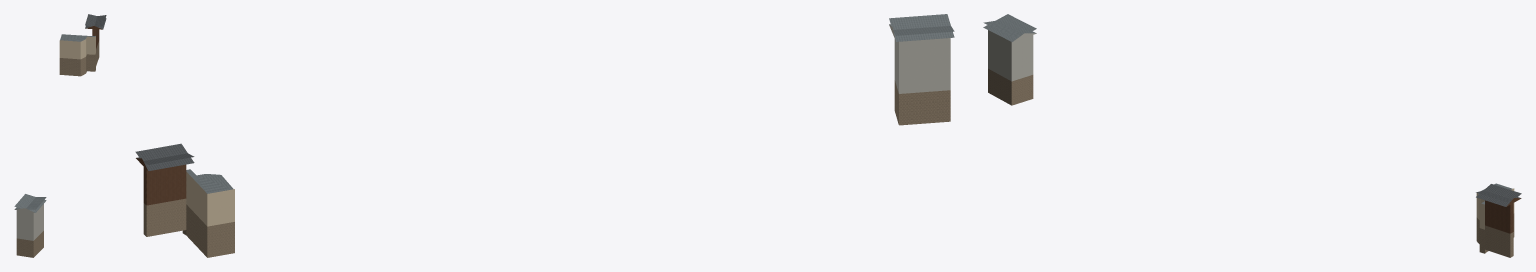
The model's file is bld_c15_38_414.gltf.
3 renders of one model, left to right at view 1: azimuth 30°, elevation 25°; view 2: azimuth 150°, elevation 25°; view 3: azimuth 270°, elevation 25°, orthographic. The views are drawn at different scales.
Parts seen in each view (by area): view 1: bld_c15_38_414; view 2: bld_c15_38_414; view 3: bld_c15_38_414.
Part boxes in pixels (box(x1,y1,x2,y2)): bld_c15_38_414: box(14, 14, 106, 257); bld_c15_38_414: box(135, 14, 954, 257); bld_c15_38_414: box(983, 14, 1521, 257).
Bounding box in the file's own units: 83.93 × 14.8 × 103.
Materials: 9 (9 with a texture image).
